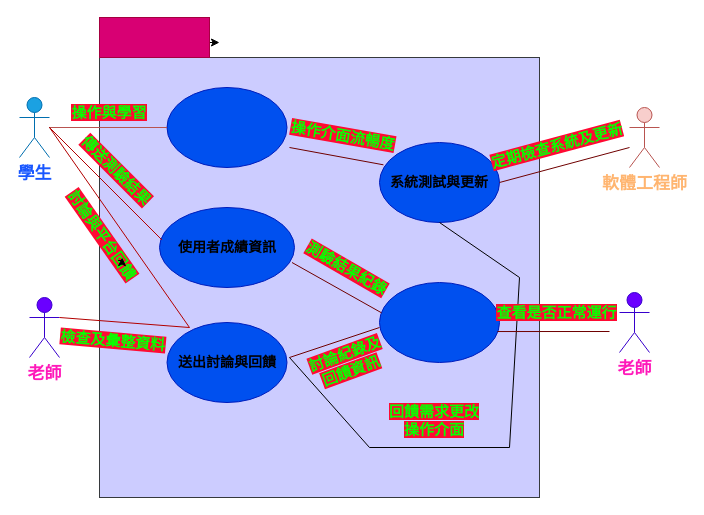
Some shapes in this 704 by 515 pixel diagram are drawn without their labels. The box of each missing label's shape, as (x1, y1, x2, y2) in pixels:
操作學習平台遊戲: (166, 86, 287, 168)
數位學習平台APP: (98, 16, 210, 58)
管理後台資料庫: (378, 282, 500, 362)
